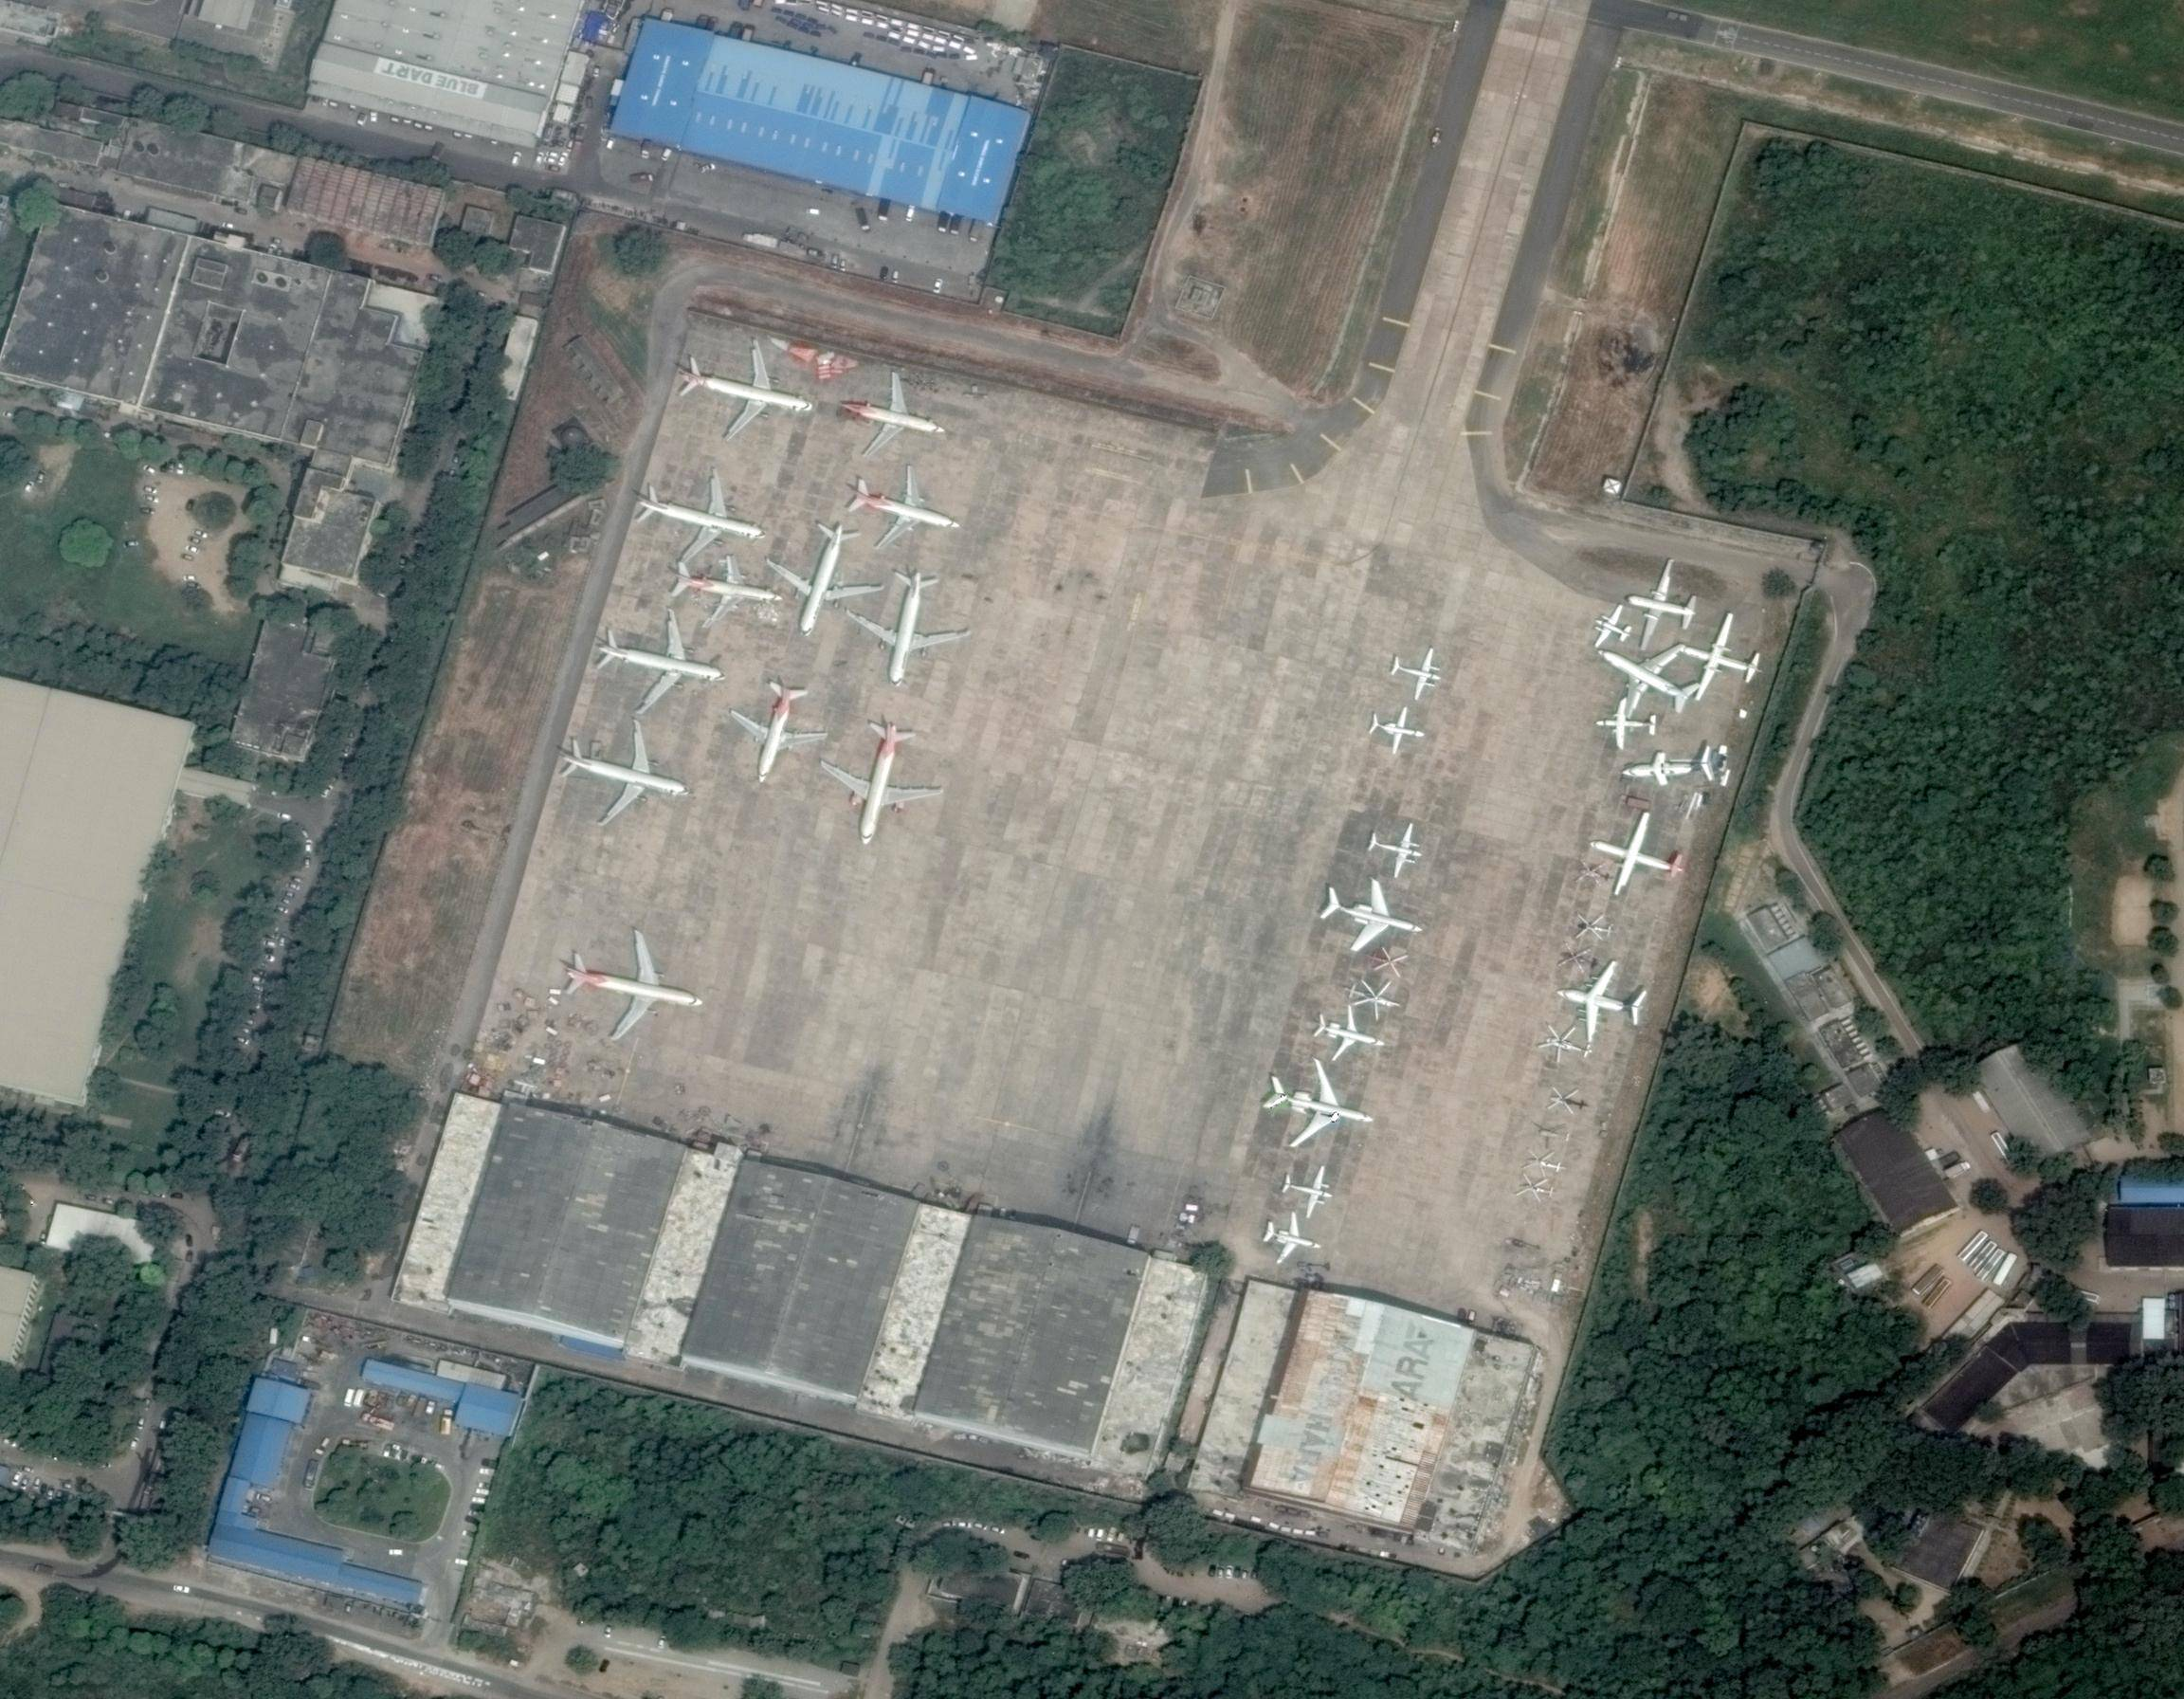helicopter: (1336, 965, 1406, 1030), (1528, 1018, 1600, 1075), (1558, 905, 1626, 959), (1361, 938, 1419, 992), (1529, 1074, 1591, 1124), (1551, 936, 1604, 983), (1509, 1164, 1559, 1214), (1519, 1140, 1571, 1185), (1524, 1114, 1576, 1154)
plane: (546, 696, 707, 849), (547, 913, 721, 1052), (577, 598, 739, 734), (665, 322, 828, 453), (756, 502, 897, 650), (1572, 606, 1723, 741), (838, 560, 980, 697), (624, 453, 777, 578), (715, 661, 837, 803), (1252, 1041, 1388, 1166), (1571, 794, 1701, 912), (1308, 852, 1436, 969), (831, 452, 968, 559), (1540, 943, 1661, 1058), (833, 360, 956, 468), (659, 539, 786, 641), (1666, 598, 1774, 713), (1612, 548, 1713, 666), (1301, 996, 1393, 1079), (1617, 738, 1736, 797), (1249, 1197, 1333, 1275), (1355, 809, 1438, 885), (1271, 1151, 1346, 1224), (1358, 694, 1432, 763), (1380, 637, 1450, 707), (1588, 692, 1662, 754), (1578, 593, 1644, 662)
